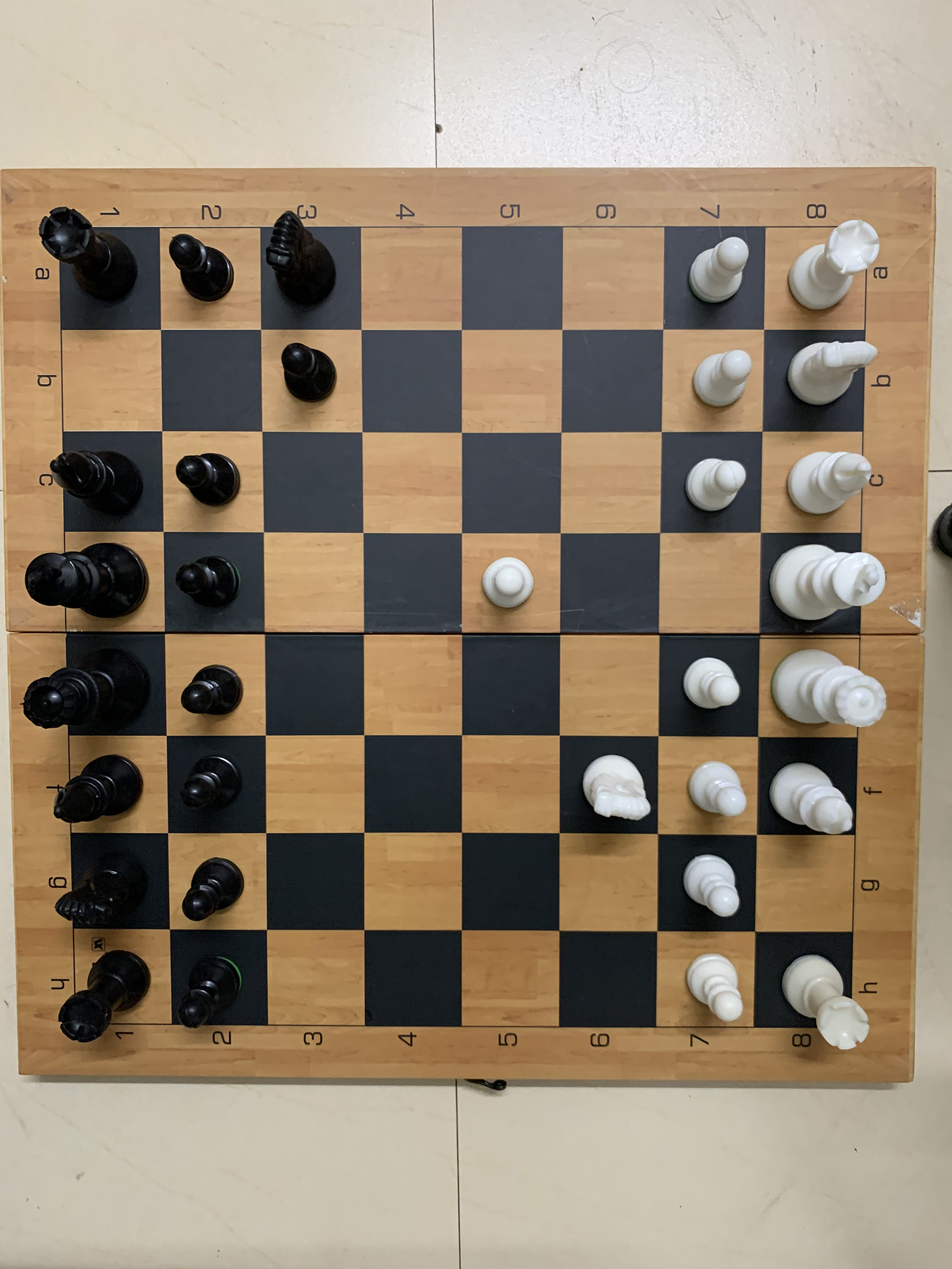black_bishop: (32, 436, 147, 522), (47, 741, 153, 826)
black_king: (19, 540, 152, 632)
black_knight: (258, 208, 348, 311), (49, 842, 142, 931)
black_pawn: (160, 219, 250, 309), (170, 952, 258, 1035), (173, 540, 245, 620), (169, 444, 244, 517), (179, 853, 248, 930), (175, 749, 250, 819), (270, 336, 337, 410), (177, 666, 250, 723)
black_queen: (24, 648, 153, 739)
black_rook: (43, 941, 161, 1049), (24, 202, 142, 306)
white_bishop: (763, 752, 856, 841), (783, 443, 879, 519)
white_king: (760, 535, 899, 626)
white_knight: (780, 326, 879, 415), (574, 748, 658, 835)
white_pawn: (681, 235, 766, 315), (675, 840, 751, 928), (675, 943, 755, 1026), (675, 449, 753, 517), (678, 645, 744, 723), (685, 756, 751, 827), (696, 340, 755, 418), (474, 549, 539, 617)
white_queen: (764, 644, 896, 732)
white_rook: (777, 937, 881, 1058), (786, 214, 885, 314)
